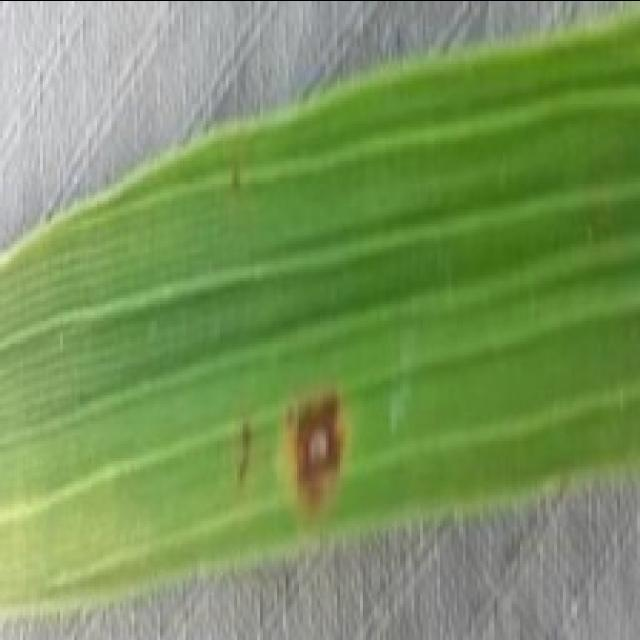Unhealthy: (276, 396, 357, 525), (230, 409, 258, 500)
